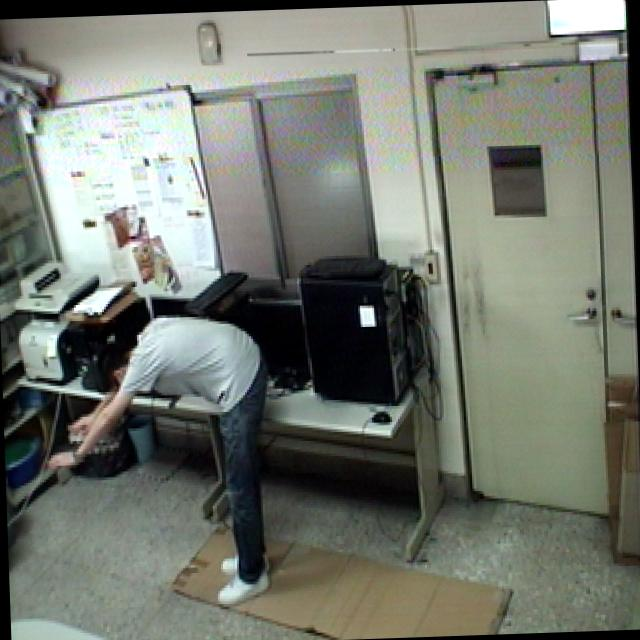bend: (47, 308, 284, 618)
